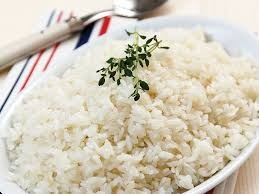pirinc_pilavi: (7, 29, 258, 193)
